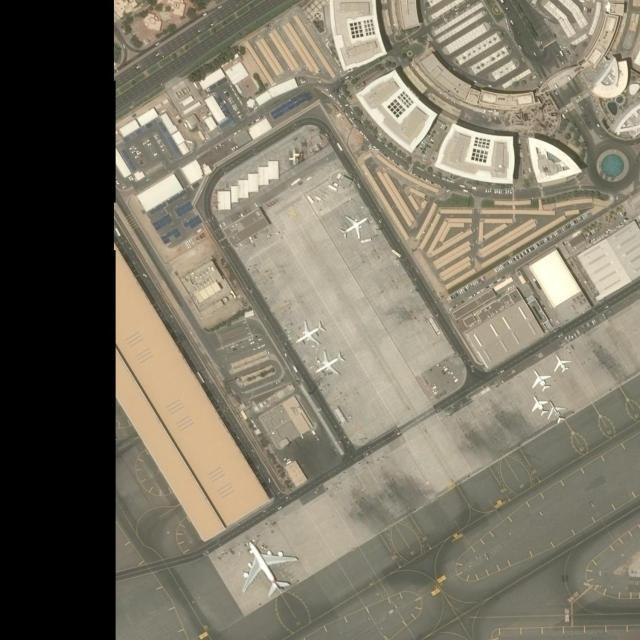Aircraft: (240, 534, 302, 603), (340, 210, 371, 242), (315, 351, 345, 377), (297, 318, 326, 342), (529, 369, 555, 393), (547, 400, 566, 424), (551, 354, 573, 374), (527, 398, 551, 414)
